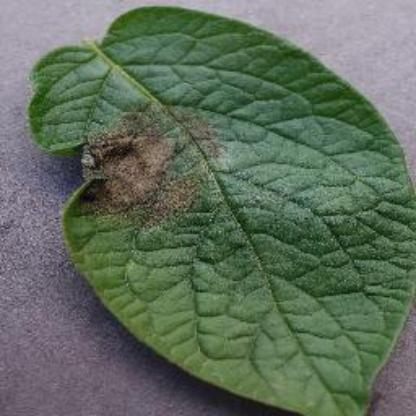Late-Blight: (26, 0, 408, 416)
